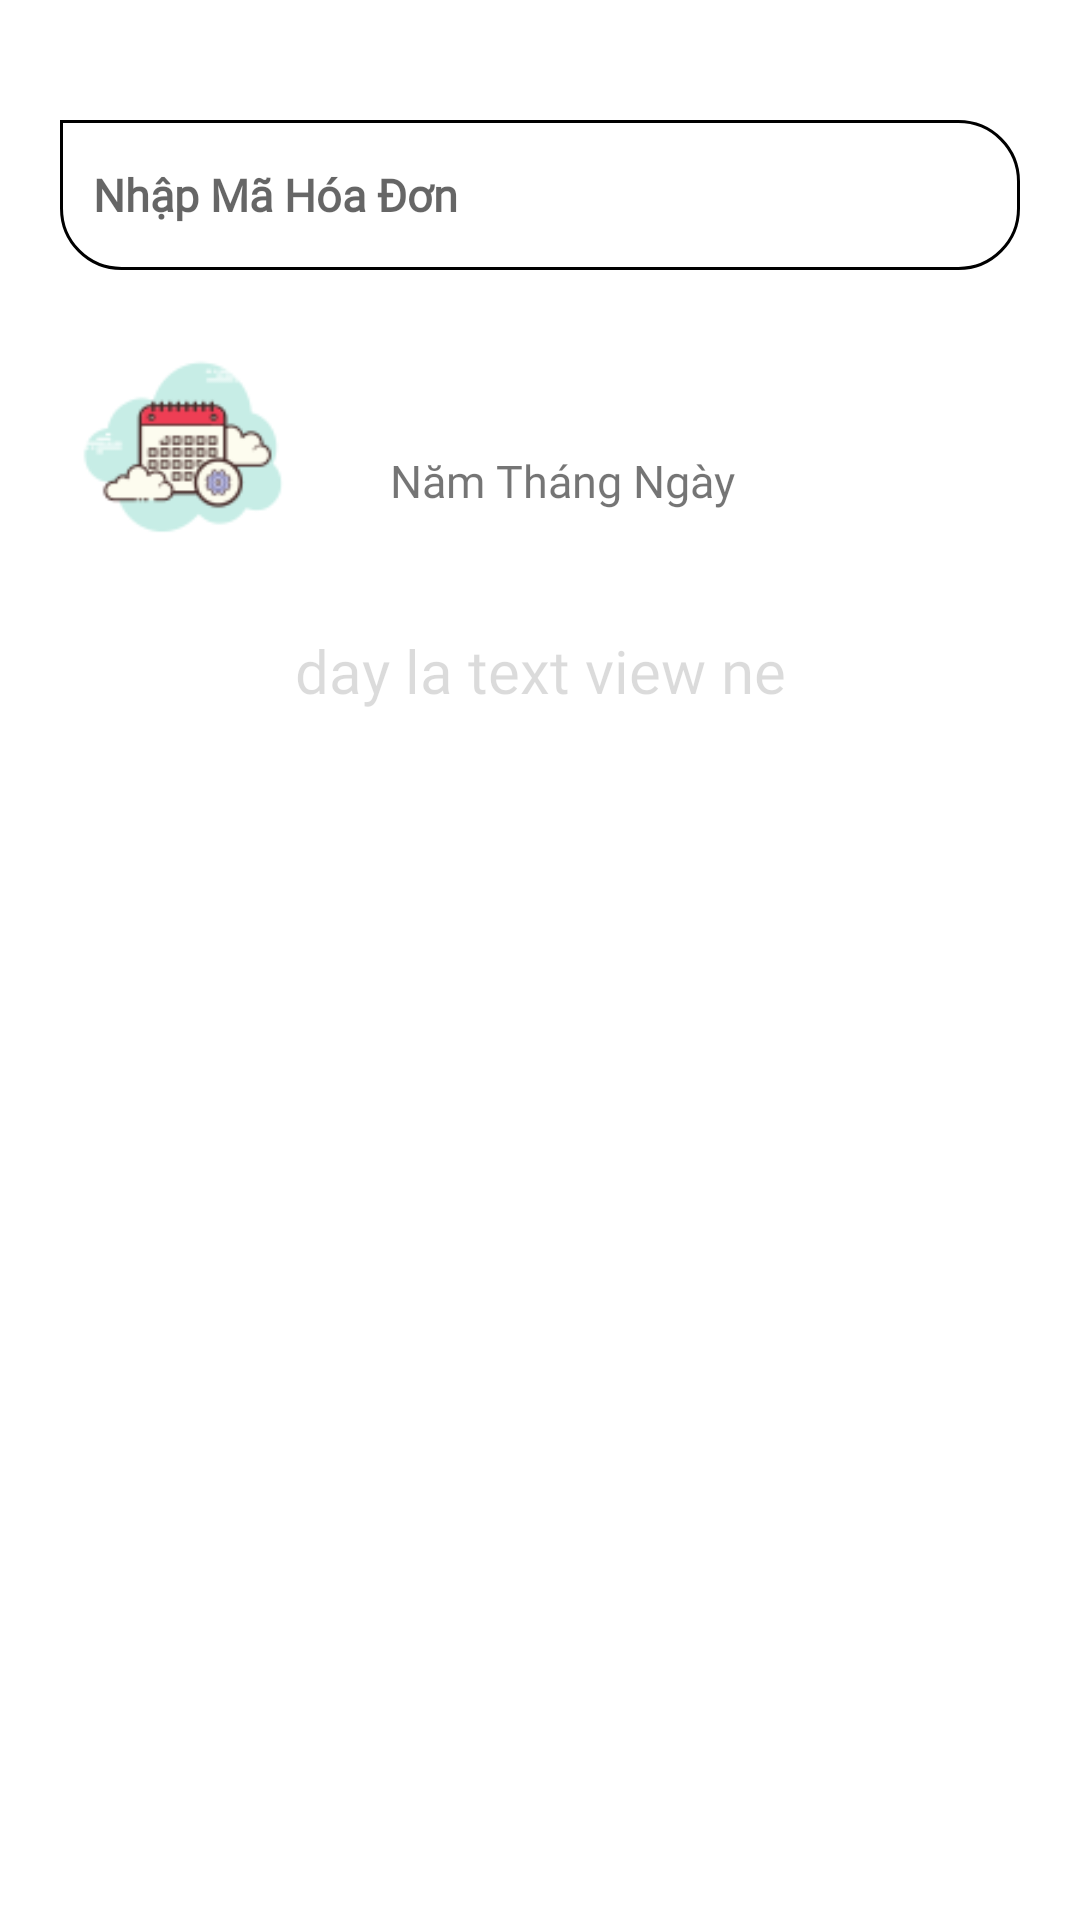

Locate icon controls on the screen. Image size 1080x1920, boxes as (x1, y1, x2, y2).
date: (84, 363, 281, 532)
